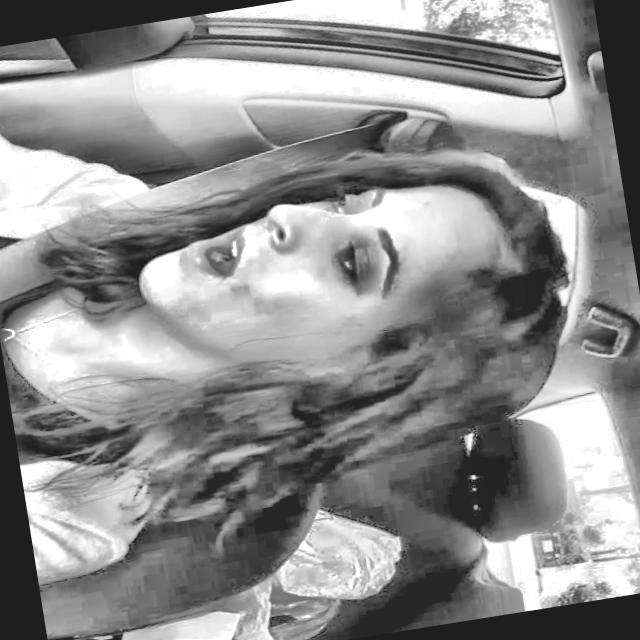open_eyes: (316, 227, 375, 295), (312, 179, 360, 219)
open_mouth: (156, 212, 254, 288)
